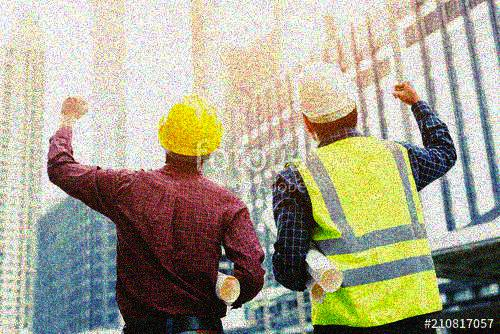helmet: (293, 61, 363, 139), (156, 91, 223, 171)
